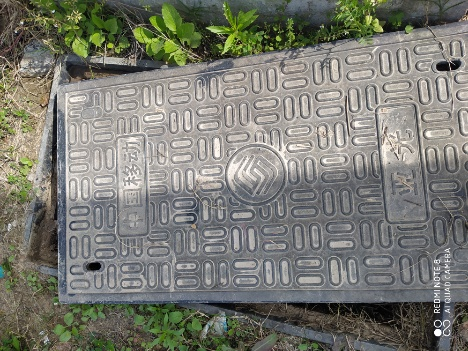uncovered: (19, 20, 468, 347)
